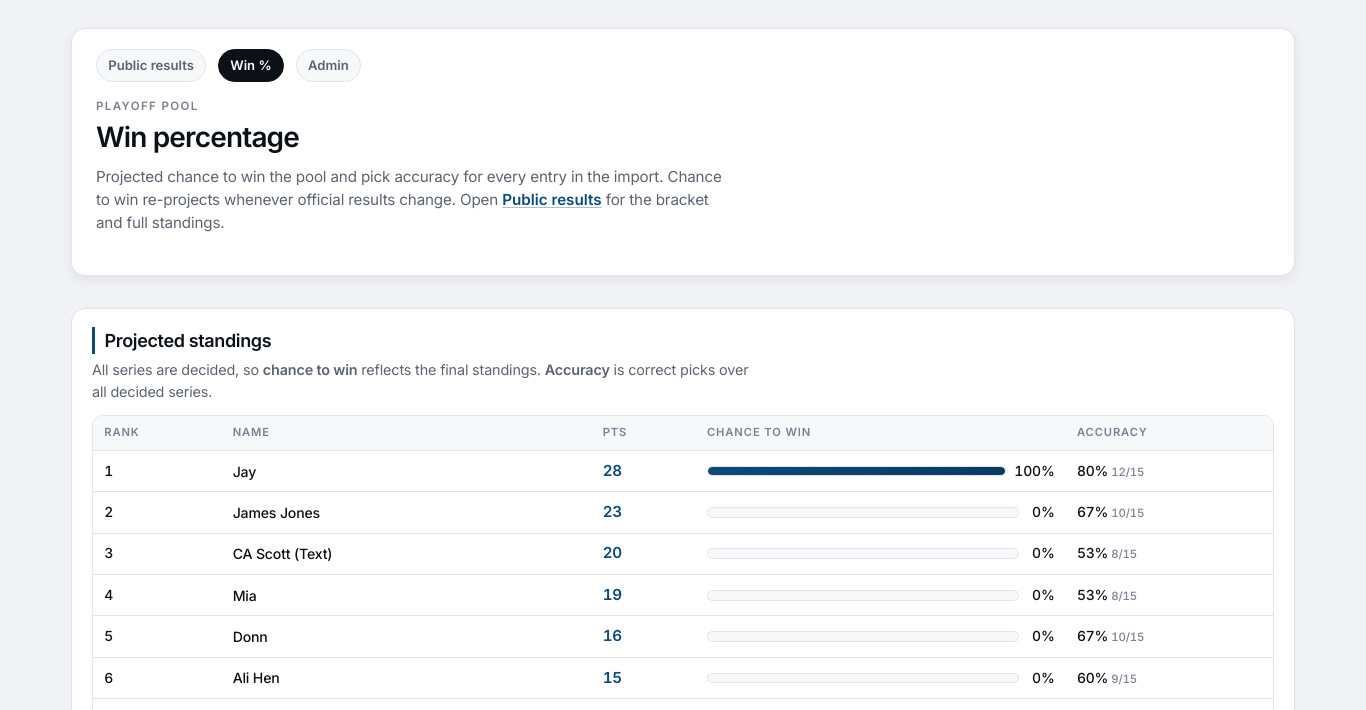
App navigation and Win % tab › switches back to Public results from the Win % tab
Check: the heading "Win percentage" is shown, box [96, 121, 299, 154]
Click the 1st button "Public results" at (151, 65), box [96, 49, 206, 82]
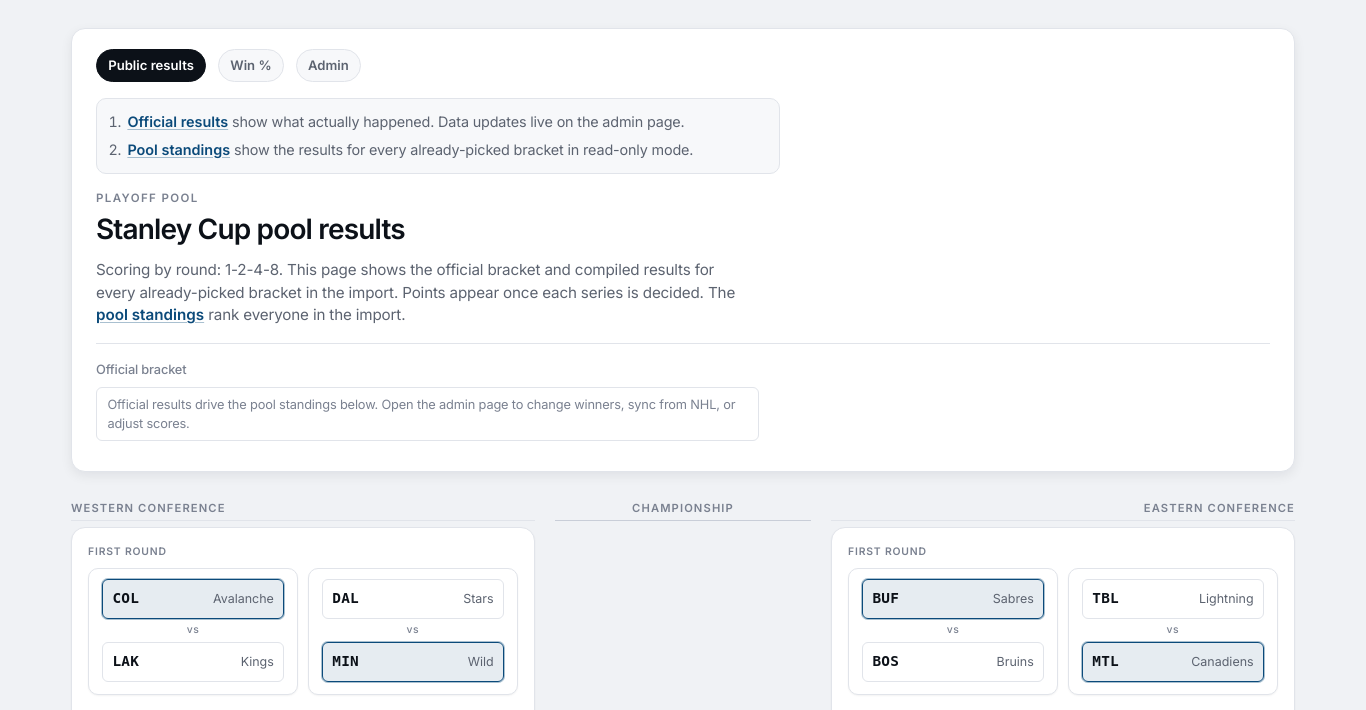
Check: the heading "Stanley Cup pool results" is shown, box [96, 213, 405, 247]
